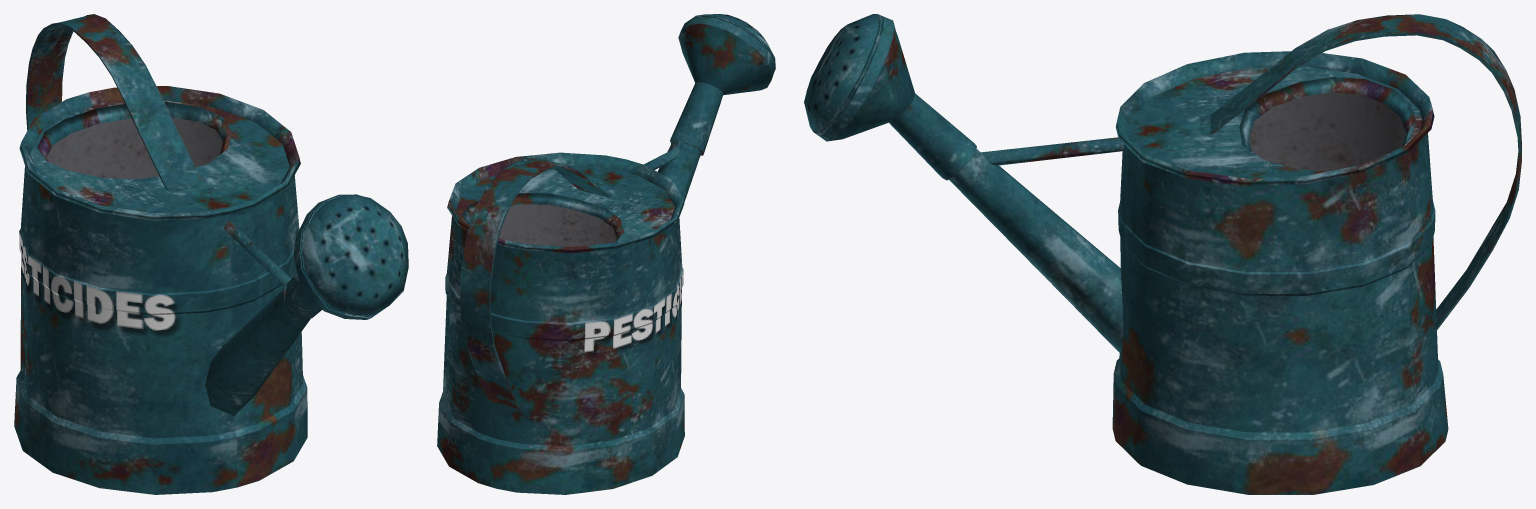
Rendered from PESTICIDES (2).fbx.
3 views of the same model, side by side, from view 1: azimuth 30°, elevation 25°; view 2: azimuth 150°, elevation 25°; view 3: azimuth 270°, elevation 25° (orthographic). The views are drawn at different scales.
Visible parts, largest first — view 1: LP_WC_01_low; view 2: LP_WC_01_low; view 3: LP_WC_01_low.
Part boxes in pixels (bbox=[...]): LP_WC_01_low: bbox=[14, 14, 408, 494]; LP_WC_01_low: bbox=[437, 14, 775, 494]; LP_WC_01_low: bbox=[804, 14, 1521, 494].
Bounding box in the file's own units: 23.43 × 33.68 × 53.82.
Materials: 1 (1 with a texture image).
